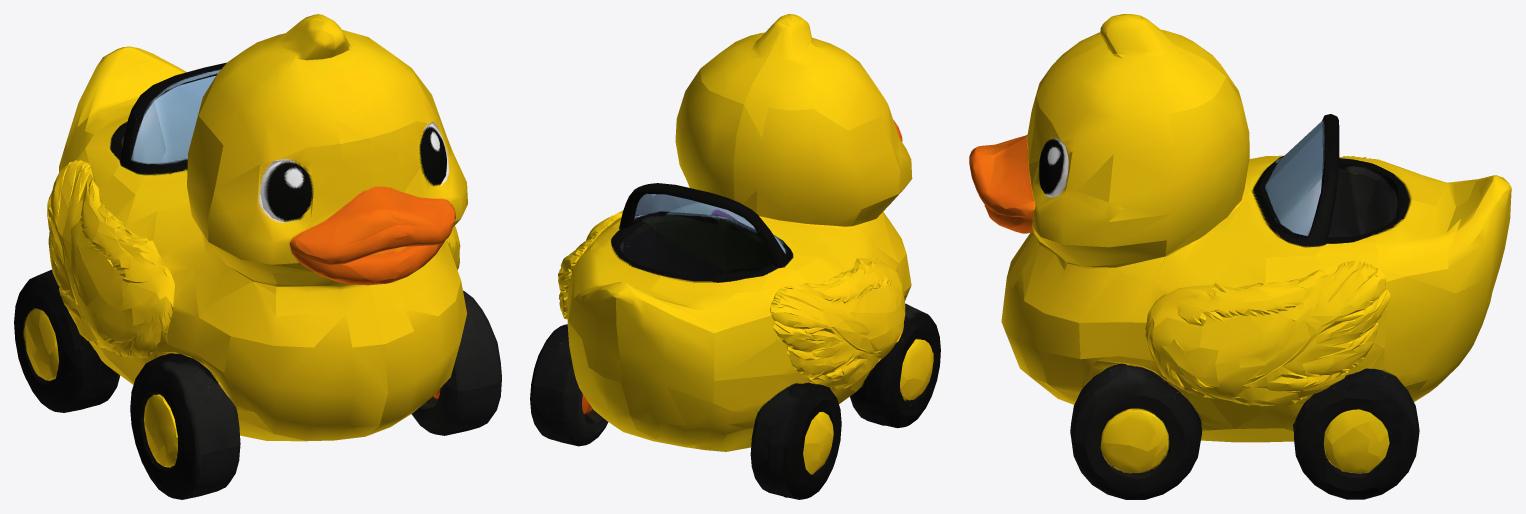
Rendered from rubber_ducky.glb.
3 renders of one model, left to right at view 1: azimuth 30°, elevation 25°; view 2: azimuth 150°, elevation 25°; view 3: azimuth 270°, elevation 25°, orthographic. The views are drawn at different scales.
Bounding box in the file's own units: 1.33 × 1.61 × 1.9.
Materials: 1 (1 with a texture image).
